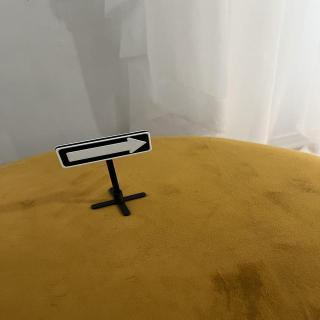sign_oneway_right: (56, 131, 155, 171)
